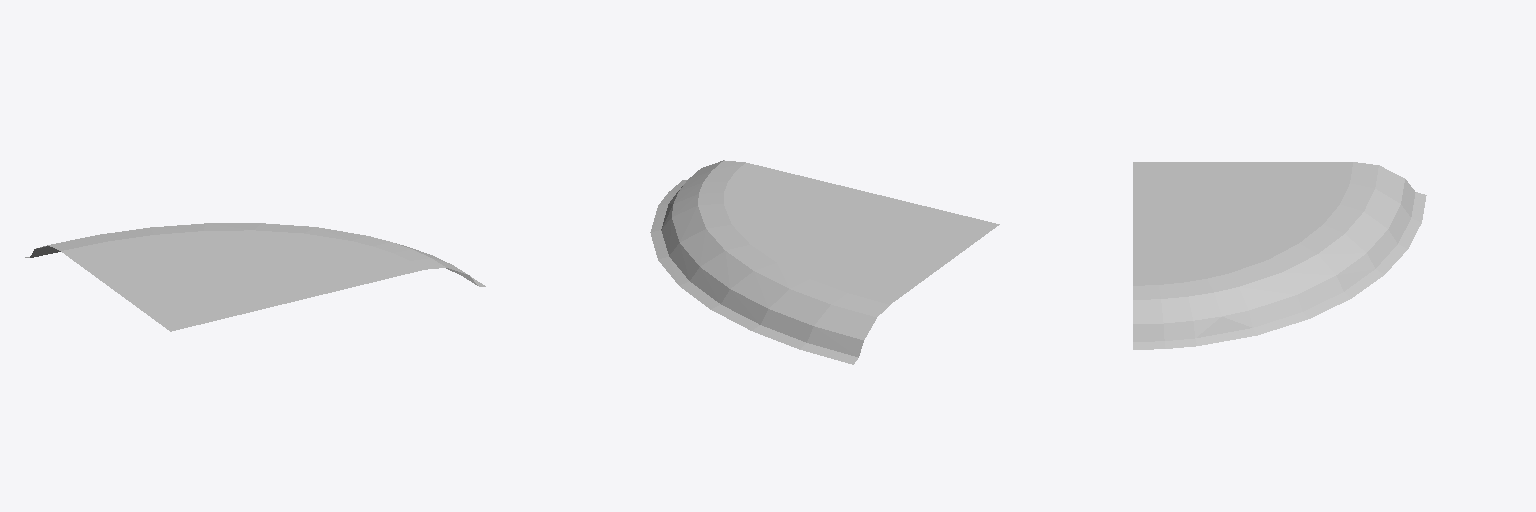
The model's file is Track_Normal_Curve_Inner_4x5.obj.
The picture shows the model from 3 angles: view 1: azimuth 30°, elevation 25°; view 2: azimuth 150°, elevation 25°; view 3: azimuth 270°, elevation 25°; orthographic projection.
Visible parts, largest first — view 1: object1; view 2: object1; view 3: object1.
Boxes of the visible parts, box(x1,y1,x2,y2) form: object1: box(25, 223, 485, 331); object1: box(650, 160, 999, 364); object1: box(1133, 162, 1426, 349).
Size of the model in its own units: 5 by 0.5 by 4.